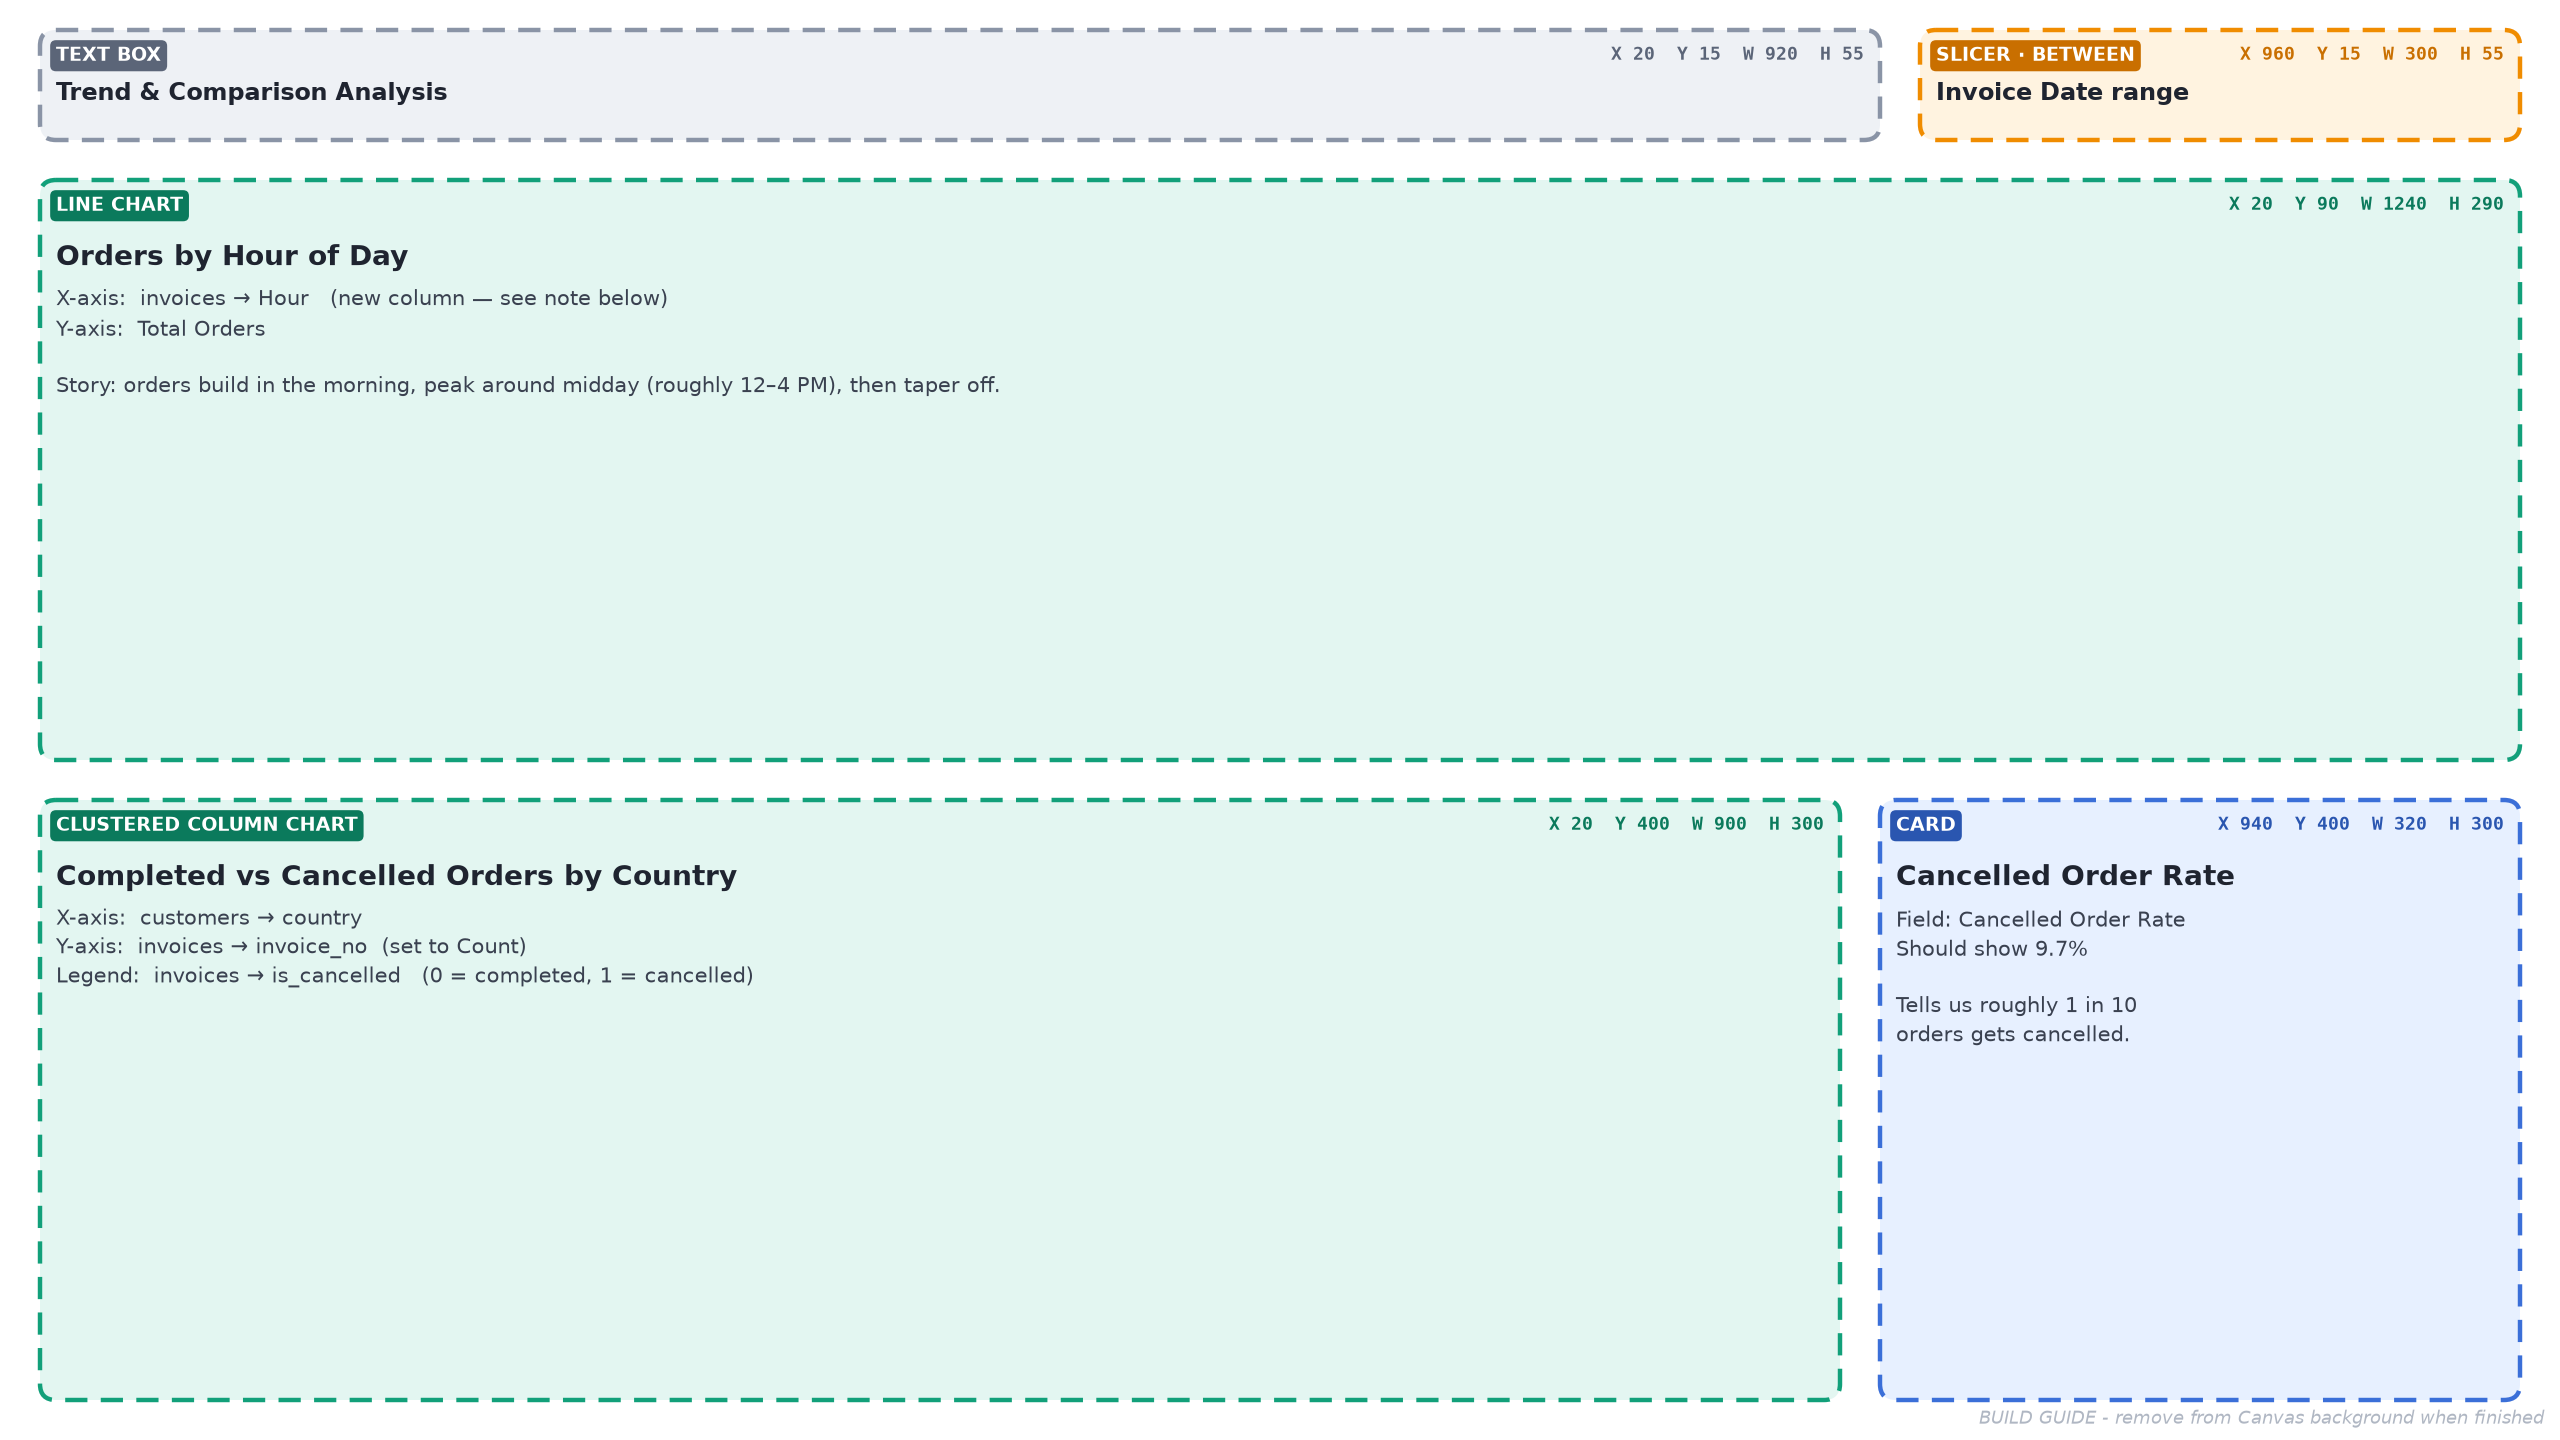

The page's visual inventory and layout, read from the dashboard file:
{"tool":"powerbi","page":{"name":"Page 2 — Trend & Comparison","canvas":[1280,720],"ordinal":1},"visuals":[{"type":"slicer","fields":{"Values":["invoices.invoice_date"]},"box":[968.3,0,293.3,80],"z":0},{"type":"lineChart","title":"Orders by Hour of Day","fields":{"Category":["invoices.Hour"],"Y":["invoice_items.Total Orders"]},"box":[20,80,1241.7,298.3],"z":1000},{"type":"clusteredColumnChart","title":" Completed vs Cancelled Orders by Country","fields":{"Category":["customers.country"],"Series":["invoices.Order Status"],"Y":["CountNonNull(invoices.invoice_no)"]},"box":[20,396.7,898.3,290],"z":2000},{"type":"cardVisual","fields":{"Data":["invoice_items.Cancelled Order Rate"]},"box":[940,396.7,321.7,290],"z":3000},{"type":"textbox","box":[20,11.7,875,68.3],"z":4000}]}

Visuals, with their boxes in screenshot pixels (x1, y1, x2, y2), scaled from the page's 1280x720 canvas onto the 2560x1440 screenshot:
slicer - invoices.invoice_date: 1937 0 2523 160
"Orders by Hour of Day" lineChart: 40 160 2523 757
" Completed vs Cancelled Orders by Country" clusteredColumnChart: 40 793 1837 1373
cardVisual - invoice_items.Cancelled Order Rate: 1880 793 2523 1373
textbox: 40 23 1790 160
